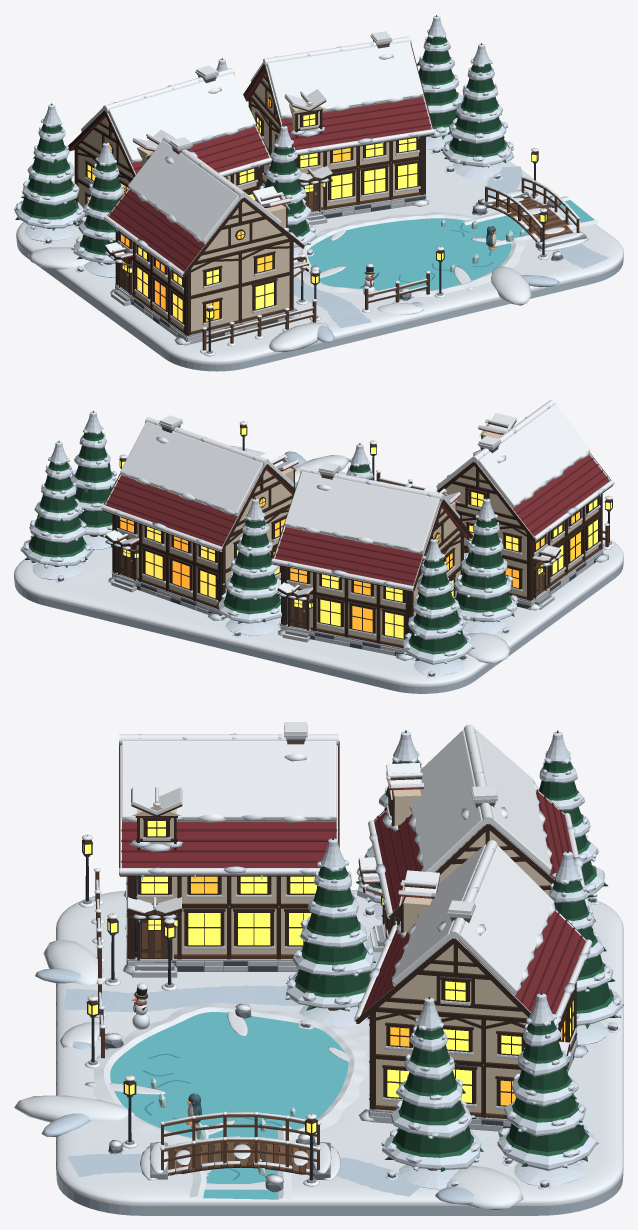
File: winter_village_sample_v1.glb
3 views of the same model, one above another, from view 1: azimuth 30°, elevation 25°; view 2: azimuth 150°, elevation 25°; view 3: azimuth 270°, elevation 25° (orthographic). The views are drawn at different scales.
Visible parts, largest first — view 1: PR_SnowBase, SP_Pond_Ice, NC_Snow_Roof_Front.001, NC_Snow_Roof_Front, NC_Wall_Plaster.002, NC_Snow_Roof_Rear.002, NC_Roof.001, NC_Timber_Frame.002, SP_SnowMounds, NC_Roof.002, SP_Bridge, SnowPine_Snow.003 (+33 smaller); view 2: PR_SnowBase, NC_Snow_Roof_Rear, NC_Snow_Roof_Rear.001, NC_Snow_Roof_Rear.002, NC_Roof, NC_Roof.001, NC_Roof.002, SnowPine_Snow.005, SnowPine_Snow.002, SnowPine_Snow.001, SnowPine_Snow, NC_Timber_Frame.001 (+32 smaller); view 3: PR_SnowBase, SP_Pond_Ice, NC_Snow_Roof_Front.002, NC_Roof.002, SP_SnowMounds, SP_Bridge, NC_Snow_Roof_Rear.001, NC_Wall_Plaster.001, SP_SnowPaths, SnowPine_Snow.002, SnowPine_Snow.003, NC_Snow_Roof_Front (+50 smaller).
Boxes of the visible parts, x1=… form: PR_SnowBase: x1=16, y1=149, x2=623, y2=371; SP_Pond_Ice: x1=307, y1=218, x2=511, y2=291; NC_Snow_Roof_Front.001: x1=267, y1=41, x2=423, y2=118; NC_Snow_Roof_Front: x1=108, y1=73, x2=256, y2=163; NC_Wall_Plaster.002: x1=121, y1=201, x2=289, y2=331; NC_Snow_Roof_Rear.002: x1=128, y1=140, x2=239, y2=243; NC_Roof.001: x1=243, y1=44, x2=433, y2=155; NC_Timber_Frame.002: x1=115, y1=204, x2=293, y2=335; SP_SnowMounds: x1=28, y1=152, x2=559, y2=352; NC_Roof.002: x1=105, y1=188, x2=304, y2=277; SP_Bridge: x1=475, y1=176, x2=588, y2=251; SnowPine_Snow.003: x1=441, y1=44, x2=513, y2=180; PR_SnowBase: x1=14, y1=445, x2=623, y2=693; NC_Snow_Roof_Rear: x1=284, y1=471, x2=440, y2=553; NC_Snow_Roof_Rear.001: x1=120, y1=422, x2=263, y2=515; NC_Snow_Roof_Rear.002: x1=477, y1=404, x2=589, y2=508; NC_Roof: x1=272, y1=474, x2=472, y2=591; NC_Roof.001: x1=102, y1=464, x2=295, y2=552; NC_Roof.002: x1=437, y1=452, x2=612, y2=542; SnowPine_Snow.005: x1=403, y1=539, x2=475, y2=677; SnowPine_Snow.002: x1=20, y1=441, x2=94, y2=583; SnowPine_Snow.001: x1=218, y1=498, x2=281, y2=637; SnowPine_Snow: x1=453, y1=498, x2=517, y2=634; NC_Timber_Frame.001: x1=112, y1=476, x2=293, y2=609; PR_SnowBase: x1=56, y1=890, x2=623, y2=1215; SP_Pond_Ice: x1=110, y1=1012, x2=348, y2=1137; NC_Snow_Roof_Front.002: x1=121, y1=741, x2=336, y2=822; NC_Roof.002: x1=119, y1=741, x2=339, y2=876; SP_SnowMounds: x1=14, y1=939, x2=523, y2=1210; SP_Bridge: x1=140, y1=1111, x2=341, y2=1180; NC_Snow_Roof_Rear.001: x1=459, y1=845, x2=555, y2=995; NC_Wall_Plaster.001: x1=376, y1=944, x2=528, y2=1114; SP_SnowPaths: x1=62, y1=935, x2=420, y2=1196; SnowPine_Snow.002: x1=497, y1=993, x2=599, y2=1189; SnowPine_Snow.003: x1=381, y1=997, x2=480, y2=1189; NC_Snow_Roof_Front: x1=409, y1=730, x2=483, y2=872.
Bounding box in the file's own units: 27.5 × 8.88 × 21.5.
